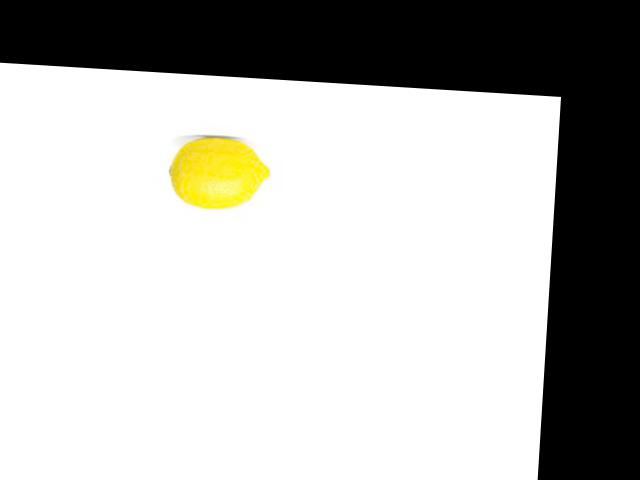lemon: (162, 133, 277, 215)
